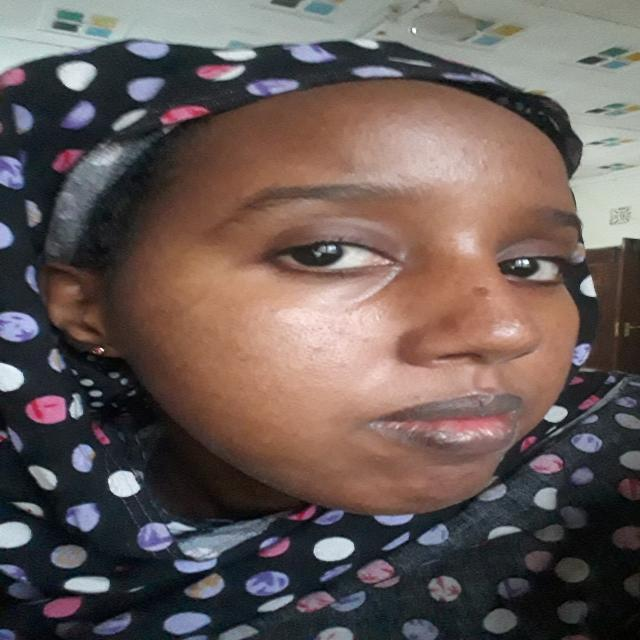acne: (464, 283, 494, 301), (478, 138, 506, 150), (474, 156, 494, 172), (362, 454, 388, 464), (478, 386, 502, 396), (438, 122, 460, 132), (410, 394, 426, 404)
pores: (277, 317, 368, 376)
